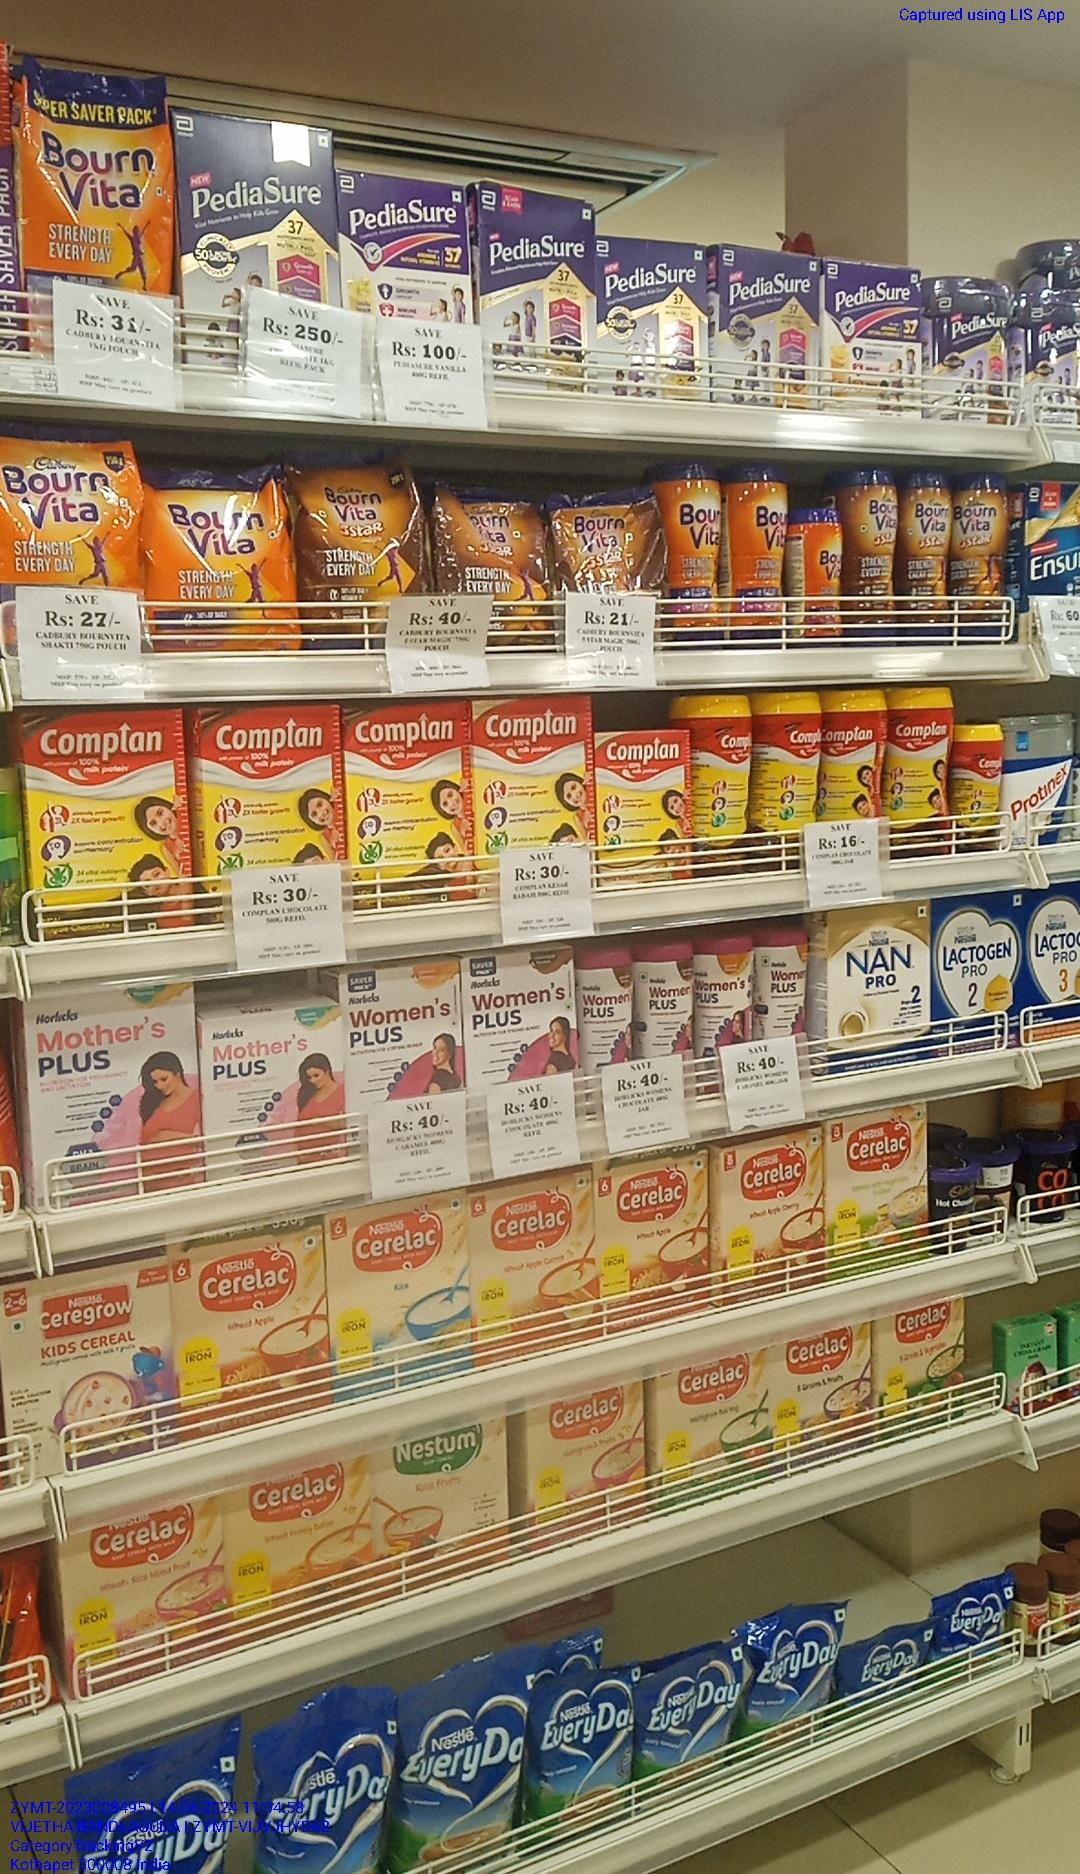BOURN_VITA_1_KG_JAR: (658, 471, 720, 638), (727, 471, 785, 642)
BOURN_VITA_500_G_JAR: (796, 507, 844, 647)
BOURN_VITA_FIVE_STAR_MAGIC_500_G_JAR: (898, 469, 954, 641), (956, 475, 1008, 644), (847, 470, 895, 635)
BOURN_VITA_FIVE_STAR_MAGIC_500_G_POUCH: (443, 483, 550, 588), (547, 490, 655, 593)
BOURN_VITA_FIVE_STAR_MAGIC_750_G_POUCH: (293, 472, 425, 614)
PEDIASURE_VANILLA_500_G_PACK: (178, 120, 332, 297), (483, 199, 593, 378), (595, 247, 708, 391), (345, 183, 466, 315), (721, 246, 817, 405), (829, 269, 919, 409)
